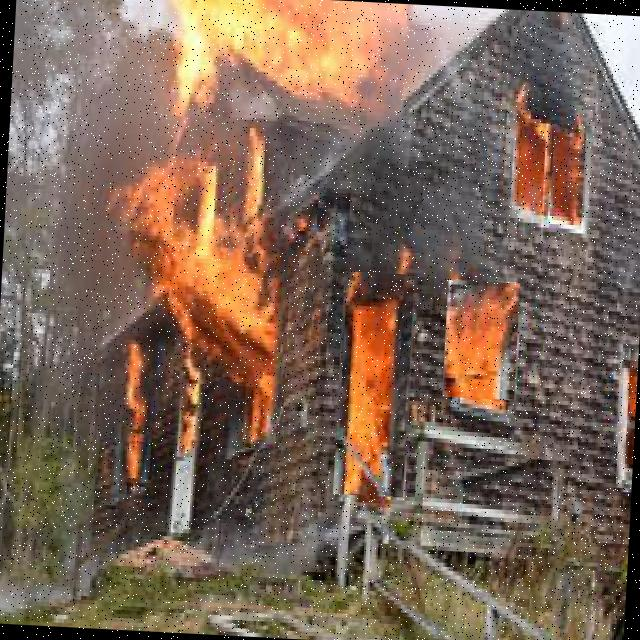fire: (94, 171, 292, 451), (151, 0, 407, 128), (332, 272, 414, 498), (442, 280, 520, 400)
